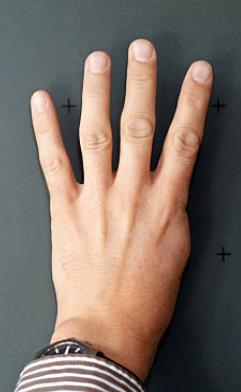right: (24, 34, 218, 342)
